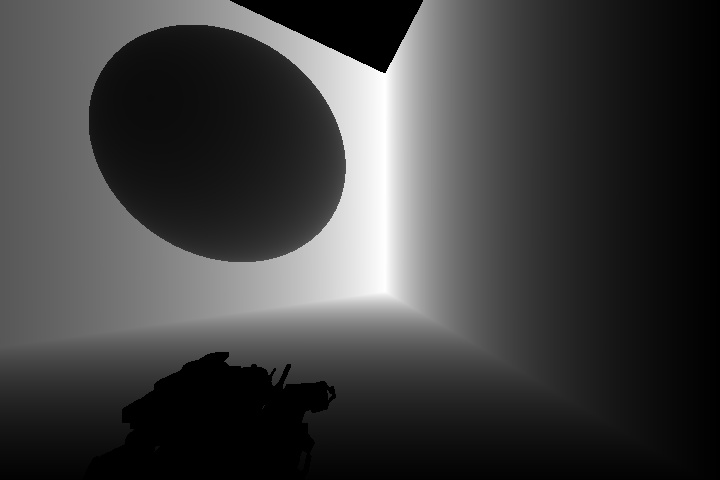mushroom: (88, 22, 350, 264)
